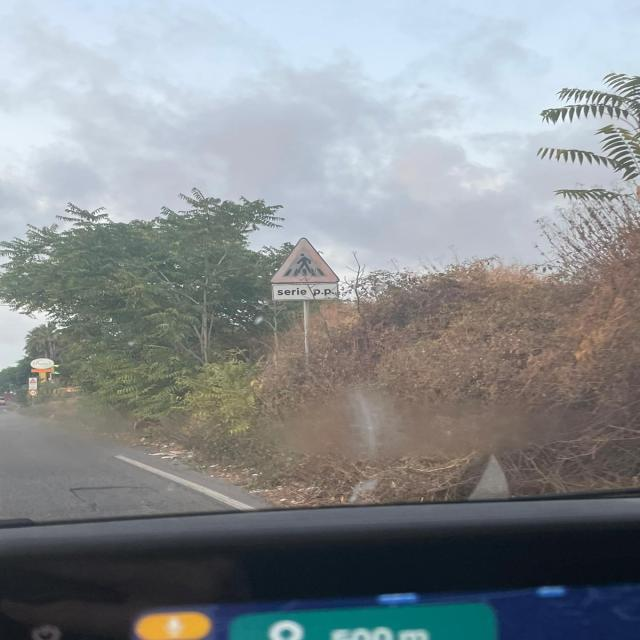warn_crosswalk: (270, 237, 341, 283)
